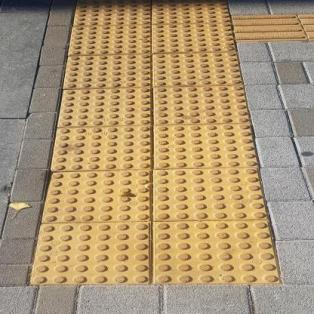Podoctatil: (19, 0, 314, 289)
